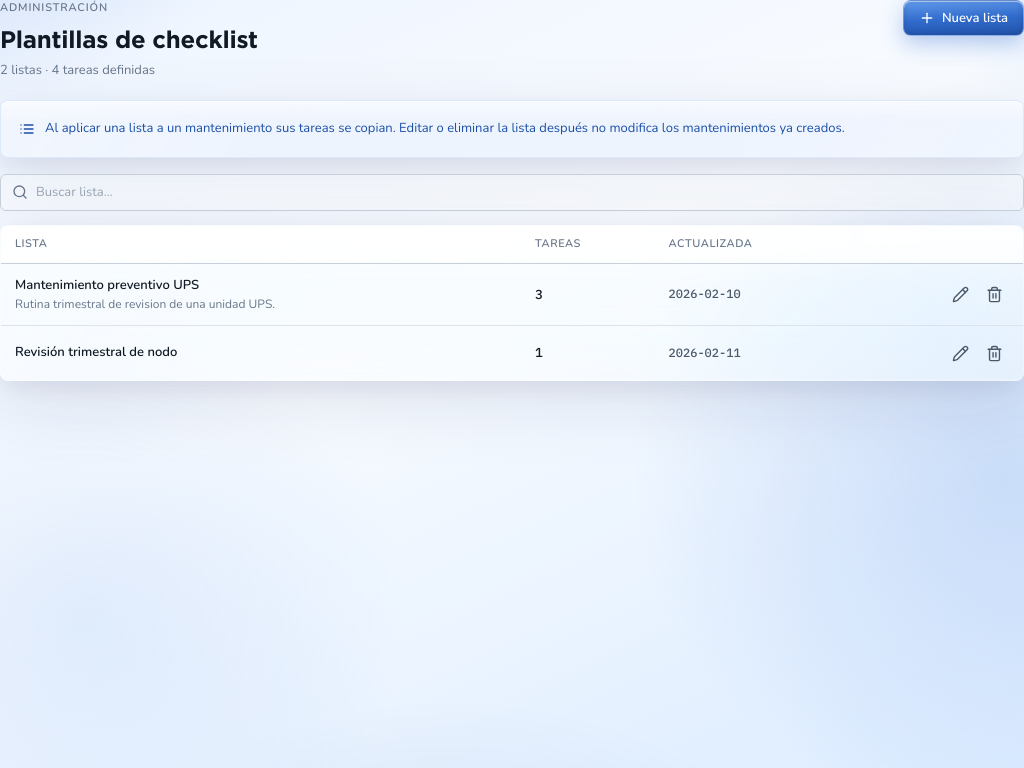
Test: ChecklistTemplates › el boton de editar abre el modal con la plantilla precargada
Expected: the text "Mantenimiento preventivo UPS" is shown, 15,276 -> 199,294
What coordinates should you click on to do the following:
click the button titled "Editar" in the row of "Mantenimiento preventivo UPS"
I would click on:
 (960, 294)
Its box is 945,279 -> 975,309.
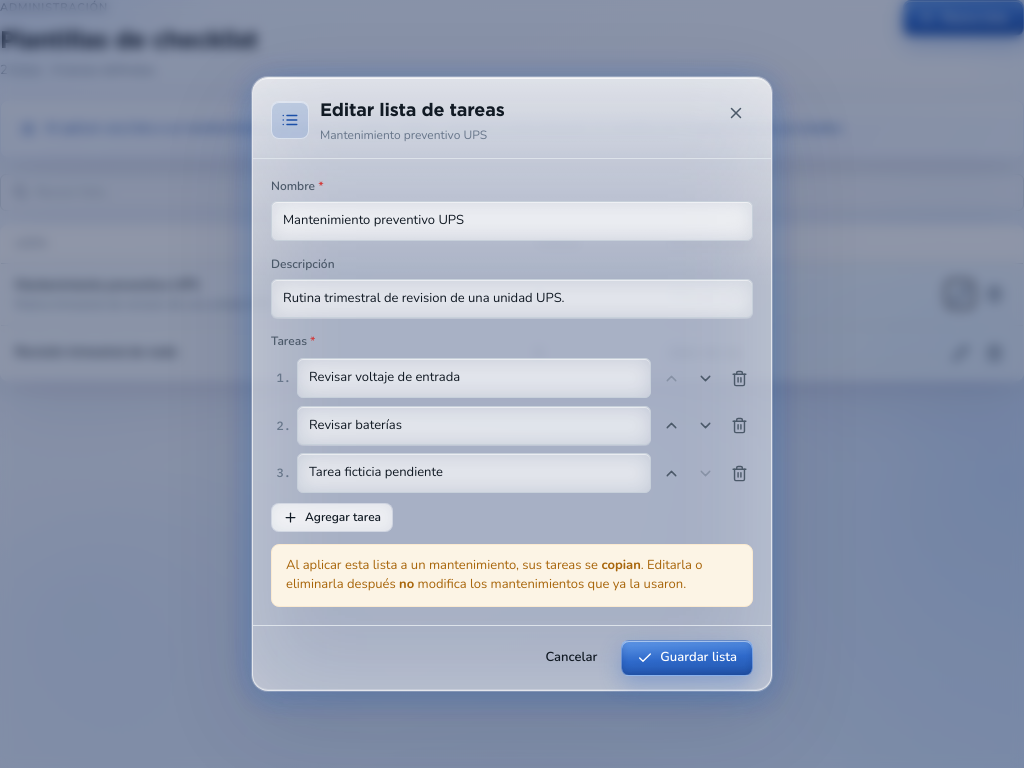
Expected: the heading "Editar lista de tareas" is shown, 320,96 -> 504,123
Expected: the field showing "Mantenimiento preventivo UPS" is shown, 271,201 -> 753,241
